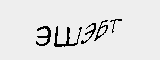Б: (94, 17, 109, 41)
Т: (108, 16, 123, 34)
Ш: (53, 23, 81, 47)
Э: (34, 22, 52, 49), (82, 20, 96, 44)
